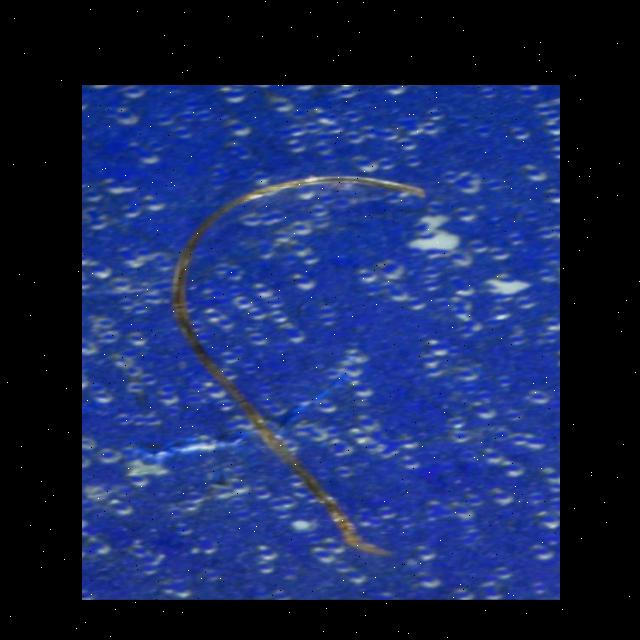Fibre: (170, 174, 426, 556)
